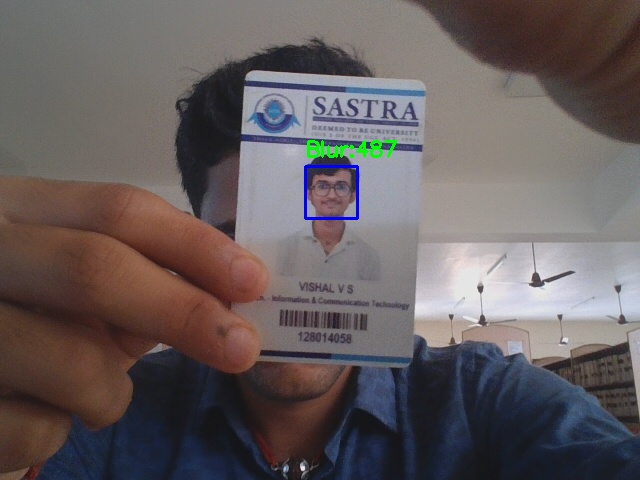fake: (305, 166, 357, 218)
